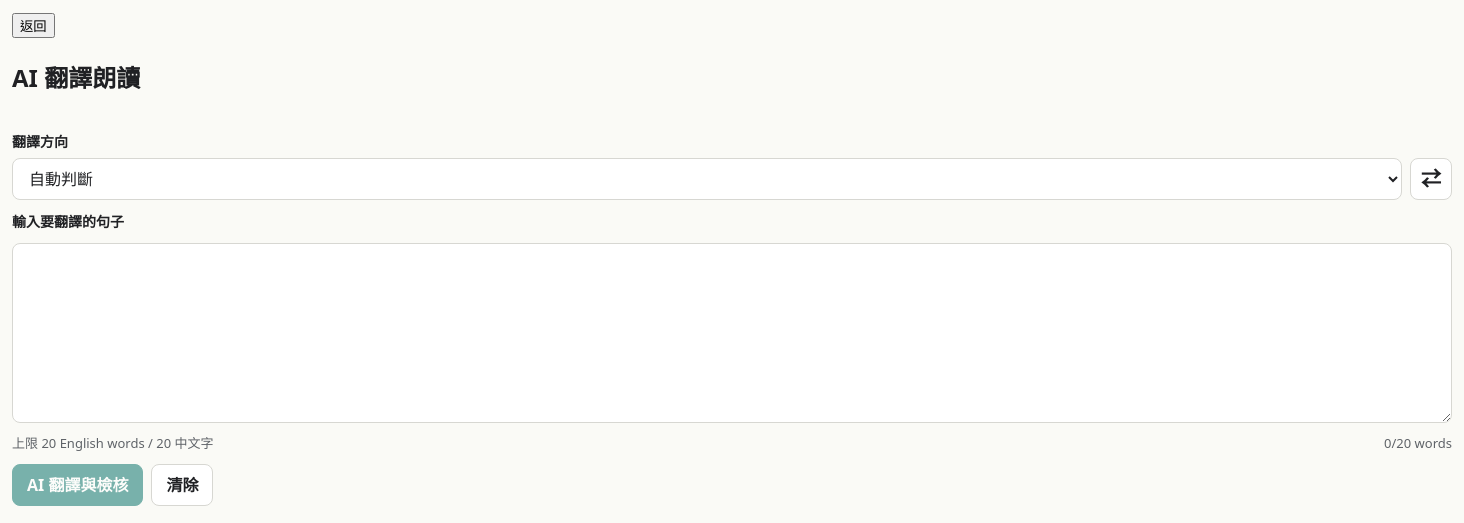
Scenario: TranslationReader › shows English word and Chinese character counts against their limits
In the text box labelled "輸入要翻譯的句子": [732, 333] box [12,243,1452,423], type "One well-known student reads."
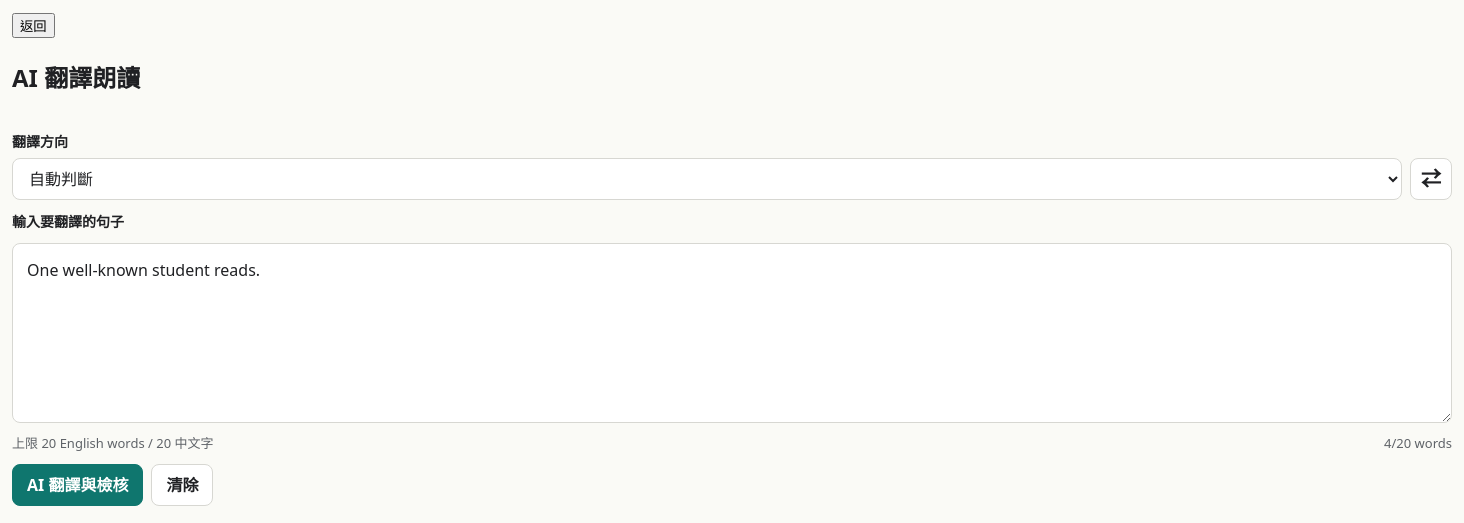
Check: the text with test id "translation-count" reads "4/20 words", box [1384,434,1452,452]
Replace the text in the text box labelled "輸入要翻譯的句子" with "我每天走路去學校。": [732, 333] box [12,243,1452,423]
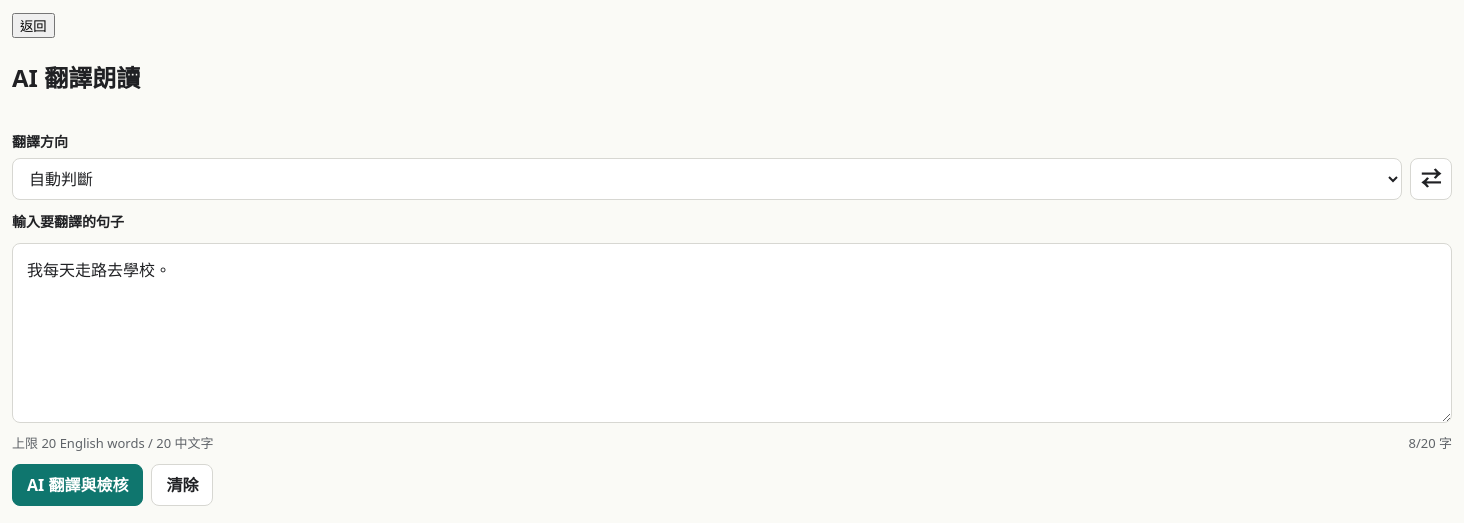
Check: the text with test id "translation-count" reads "8/20 字", box [1408,434,1452,452]
